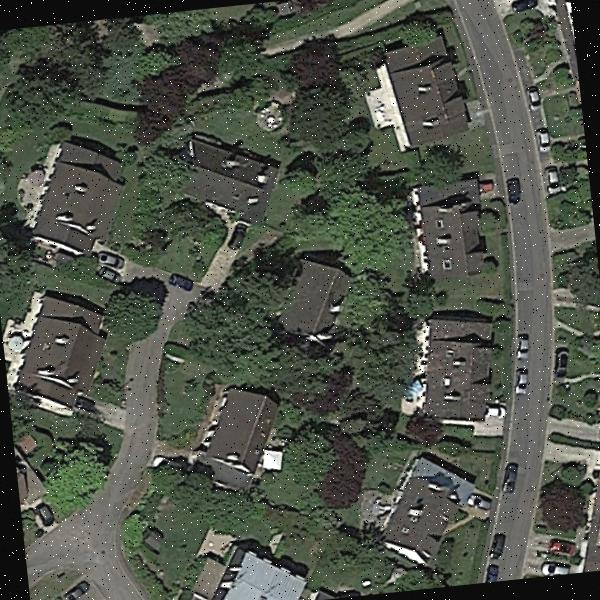Buildings: (10, 298, 110, 412), (30, 143, 120, 248), (380, 46, 465, 154), (377, 464, 470, 562), (186, 132, 276, 219), (421, 318, 494, 416), (194, 542, 315, 600), (415, 183, 488, 278), (206, 388, 274, 470), (288, 270, 338, 346)
